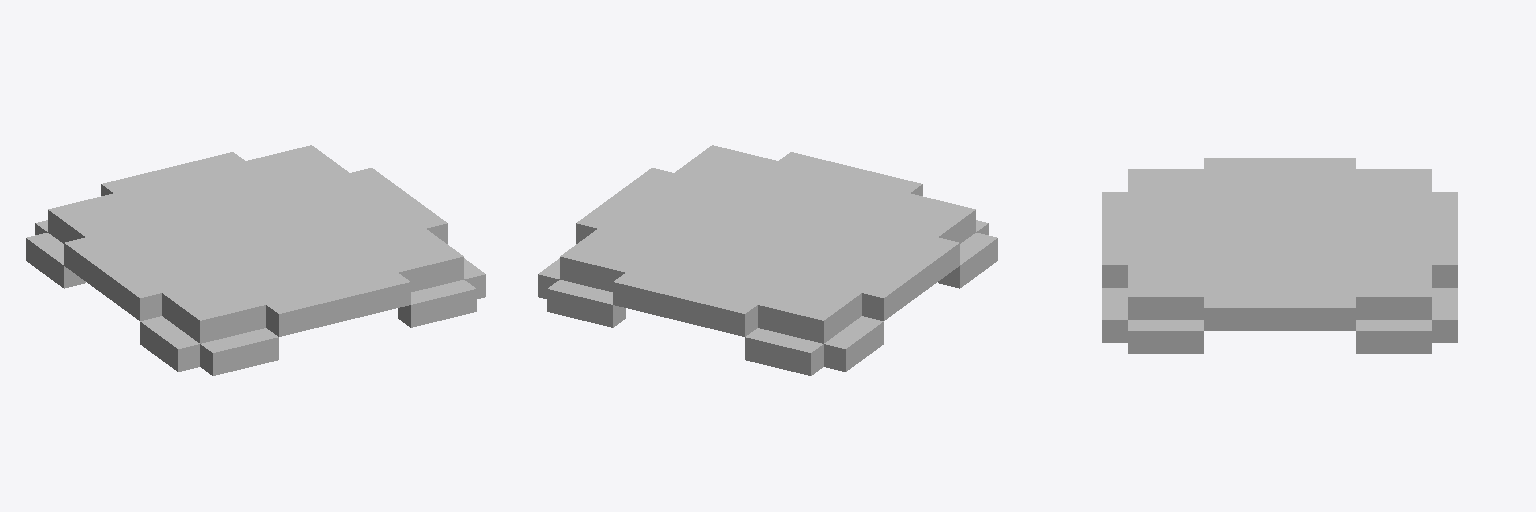
The model's file is surface_wall.obj.
The picture shows the model from 3 angles: view 1: azimuth 30°, elevation 25°; view 2: azimuth 150°, elevation 25°; view 3: azimuth 270°, elevation 25°; orthographic projection.
Visible parts, largest first — view 1: surface_wall; view 2: surface_wall; view 3: surface_wall.
Part boxes in pixels (bbox=[...]): surface_wall: bbox=[26, 145, 485, 375]; surface_wall: bbox=[538, 145, 997, 375]; surface_wall: bbox=[1102, 158, 1457, 353].
Bounding box in the file's own units: 14 × 2 × 14.